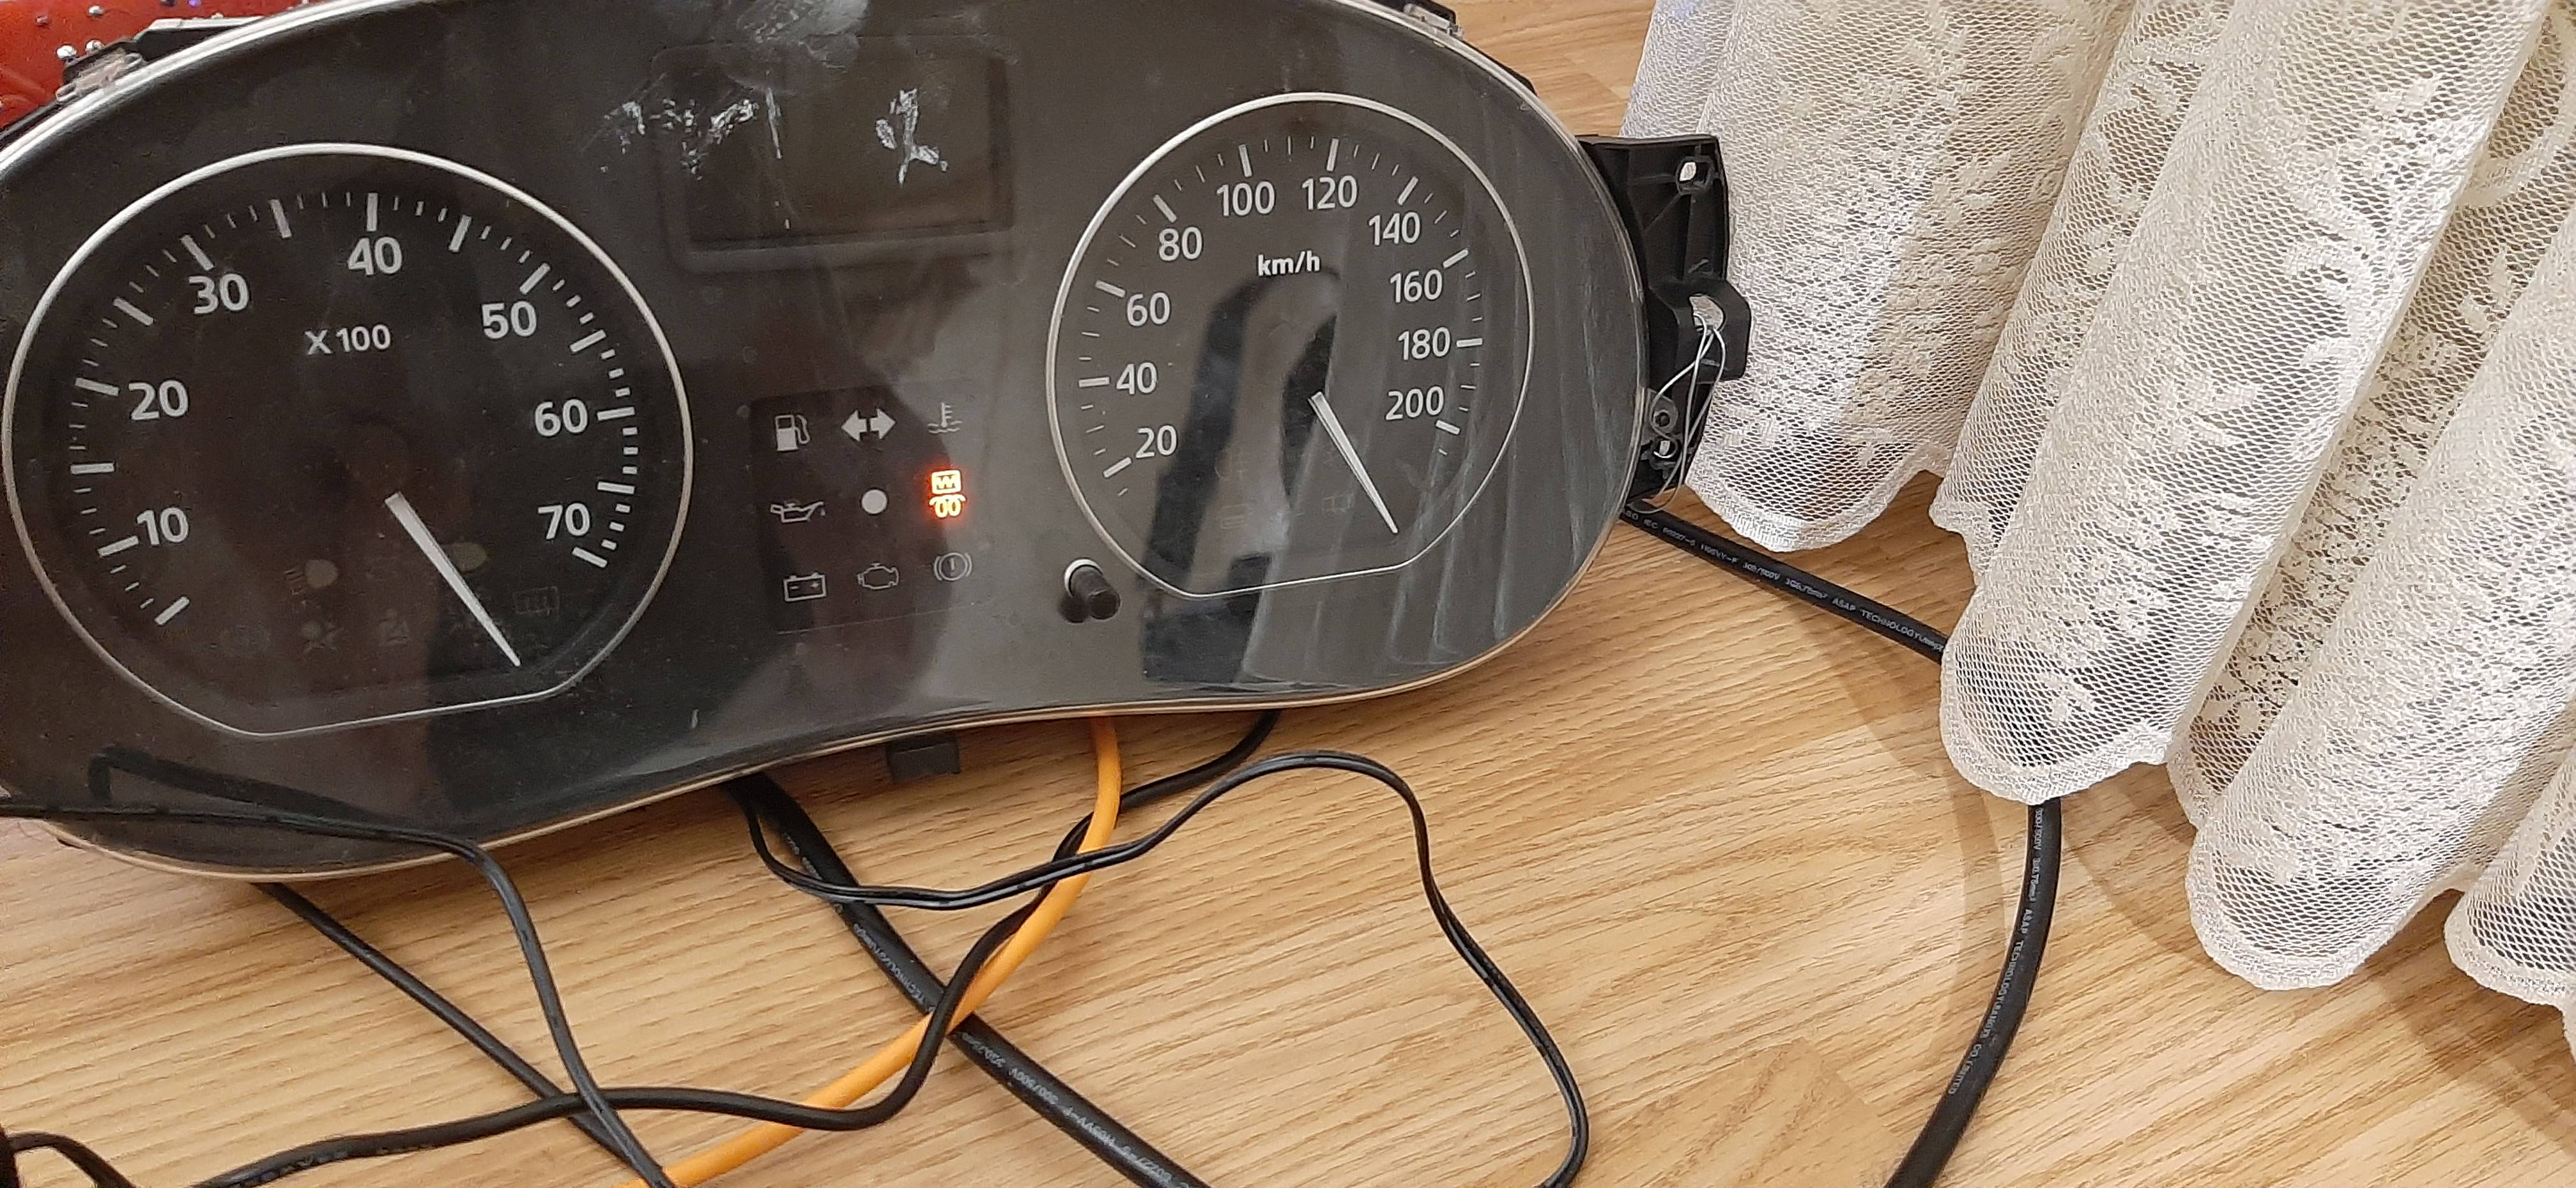diesel19: (927, 468, 968, 519)
